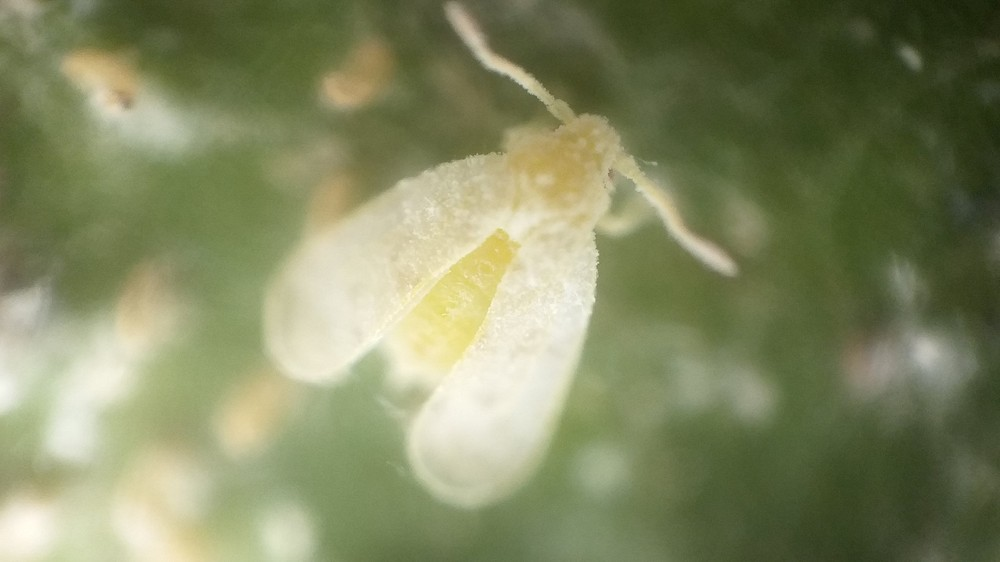Mosca Blanca: (255, 11, 748, 503)
